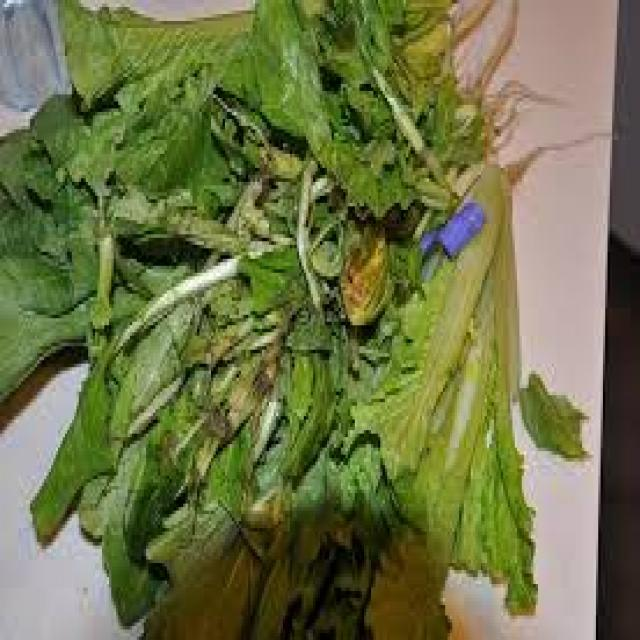organic waste: (130, 0, 517, 637), (0, 0, 492, 392), (250, 133, 538, 636), (30, 328, 355, 622), (514, 364, 586, 454)
